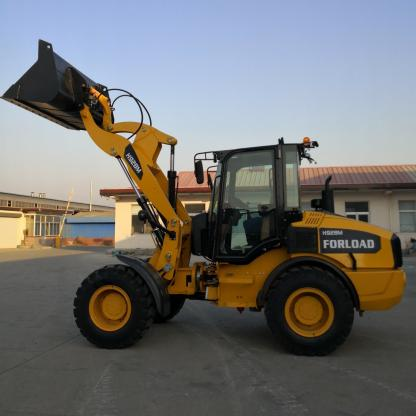bull_dozer/loader/grader: (8, 35, 412, 366)
